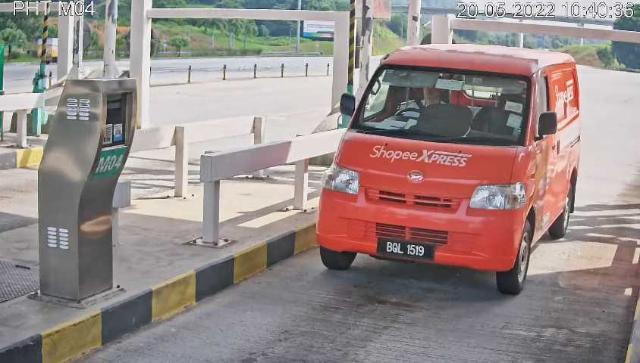License_Plate: (377, 237, 437, 265)
van: (318, 45, 581, 297)
